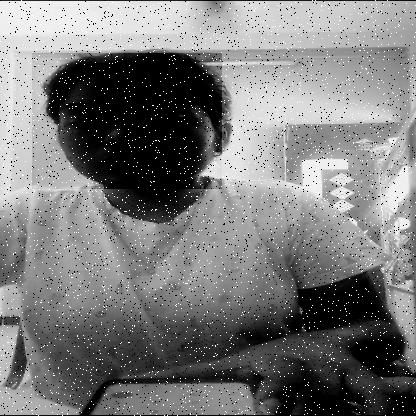Normal: (32, 53, 222, 189)
